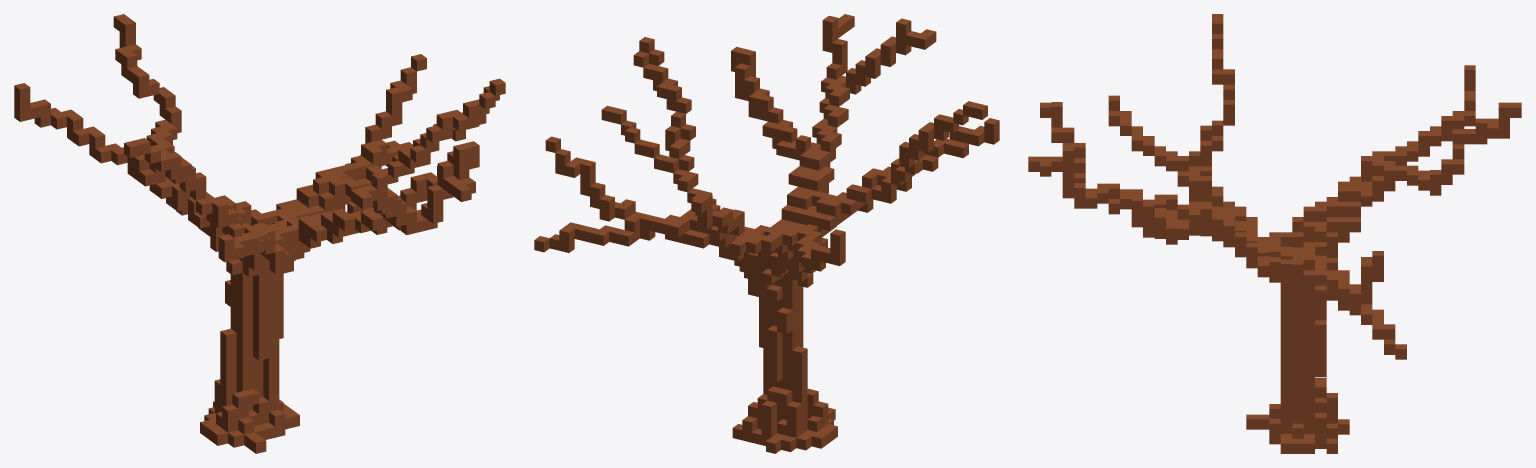
Rendered from tree_desert1.obj.
3 renders of one model, left to right at view 1: azimuth 30°, elevation 25°; view 2: azimuth 150°, elevation 25°; view 3: azimuth 270°, elevation 25°, orthographic. The views are drawn at different scales.
Size of the model in its own units: 3.7 by 3.3 by 4.3.
Materials: 1 (1 with a texture image).
